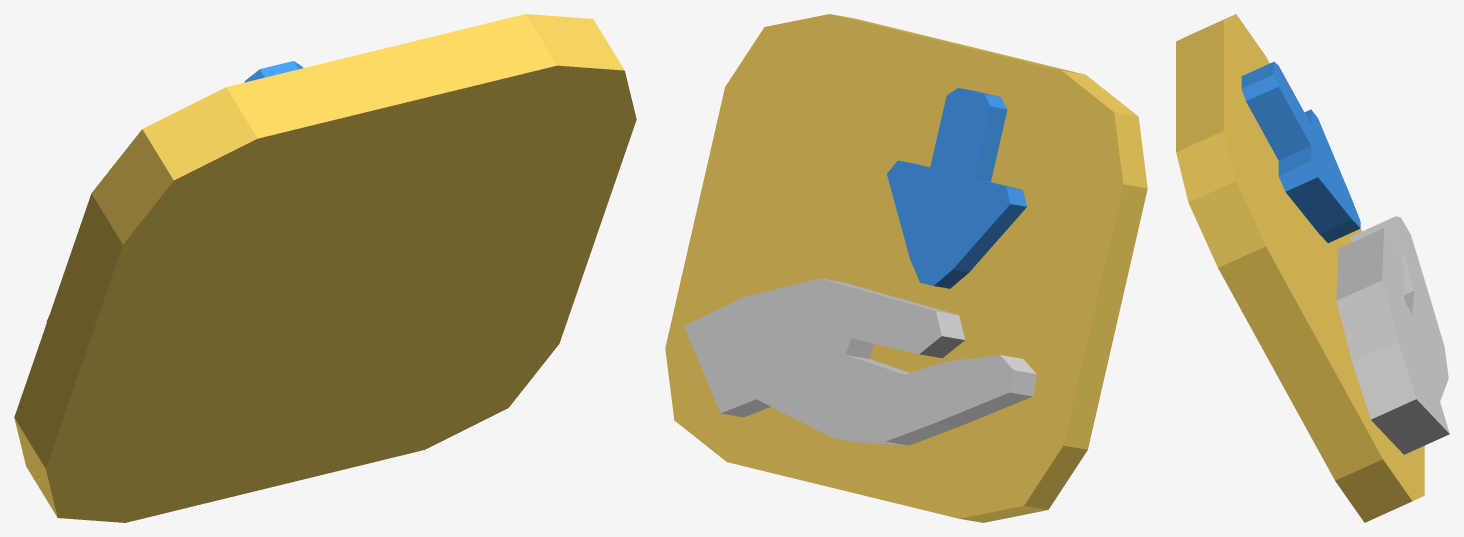
File: overdue.button.fbx
The picture shows the model from 3 angles, left to right: view 1: azimuth 30°, elevation 25°; view 2: azimuth 150°, elevation 25°; view 3: azimuth 270°, elevation 25°; orthographic projection. The views are drawn at different scales.
Visible parts, largest first — view 1: overdue; view 2: overdue, Plane_1, Plane; view 3: overdue, Plane_1, Plane.
Boxes of the visible parts, left/top/right/bottom form: overdue: left=14, top=14, right=636, bottom=522; overdue: left=665, top=14, right=1147, bottom=522; Plane_1: left=684, top=278, right=1036, bottom=445; Plane: left=887, top=88, right=1026, bottom=288; overdue: left=1176, top=14, right=1424, bottom=522; Plane_1: left=1336, top=216, right=1449, bottom=454; Plane: left=1241, top=62, right=1360, bottom=242.
Bounding box in the file's own units: 4.8 × 4.55 × 2.92.
